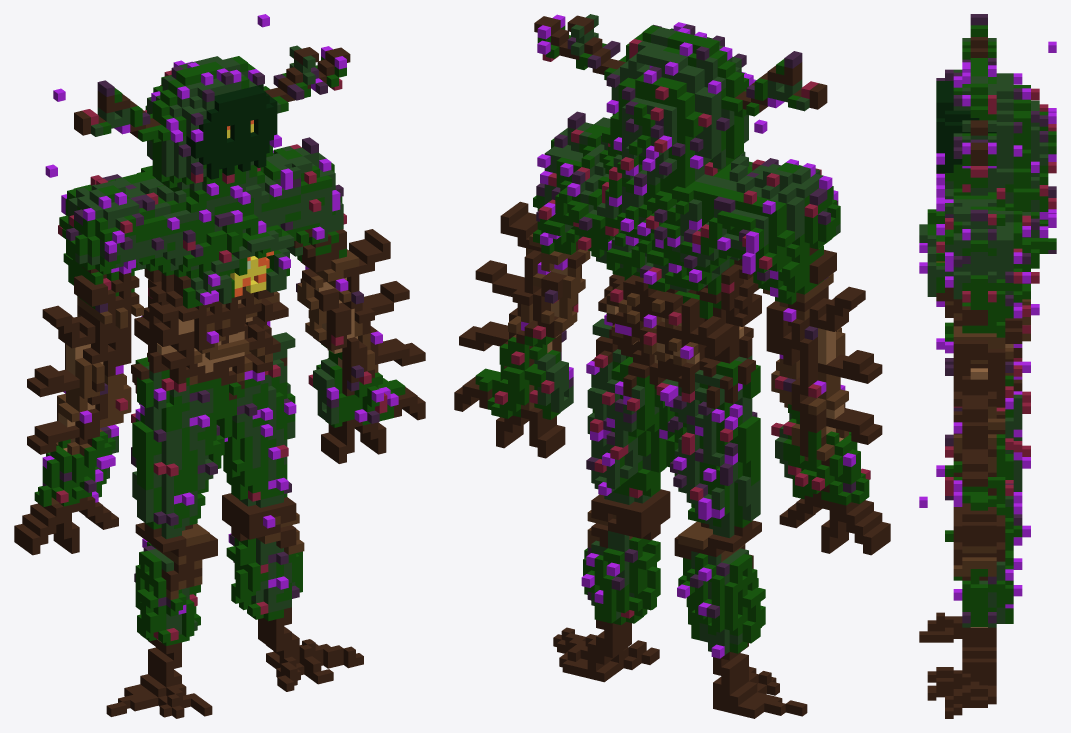
Rendered from Susan_Michelle_Doblado_Torres_fase_4.obj.
3 renders of one model, left to right at view 1: azimuth 30°, elevation 25°; view 2: azimuth 150°, elevation 25°; view 3: azimuth 270°, elevation 25°, orthographic. The views are drawn at different scales.
Parts seen in each view (by area): view 1: Susan_Michelle_Doblado_Torres_fase_4; view 2: Susan_Michelle_Doblado_Torres_fase_4; view 3: Susan_Michelle_Doblado_Torres_fase_4.
Part boxes in pixels (bbox=[...]): Susan_Michelle_Doblado_Torres_fase_4: bbox=[14, 14, 425, 718]; Susan_Michelle_Doblado_Torres_fase_4: bbox=[454, 14, 890, 718]; Susan_Michelle_Doblado_Torres_fase_4: bbox=[919, 14, 1056, 718].
Size of the model in its own units: 50 by 76 by 16.
Materials: 1 (1 with a texture image).
